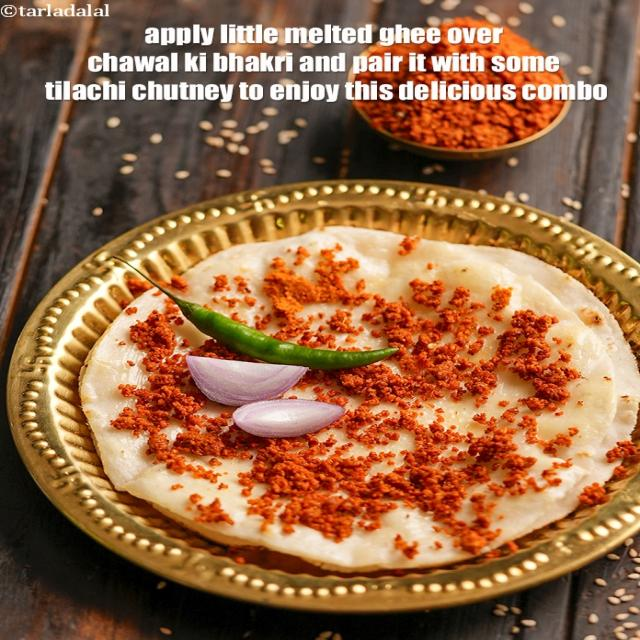ROTI: (77, 234, 639, 579)
